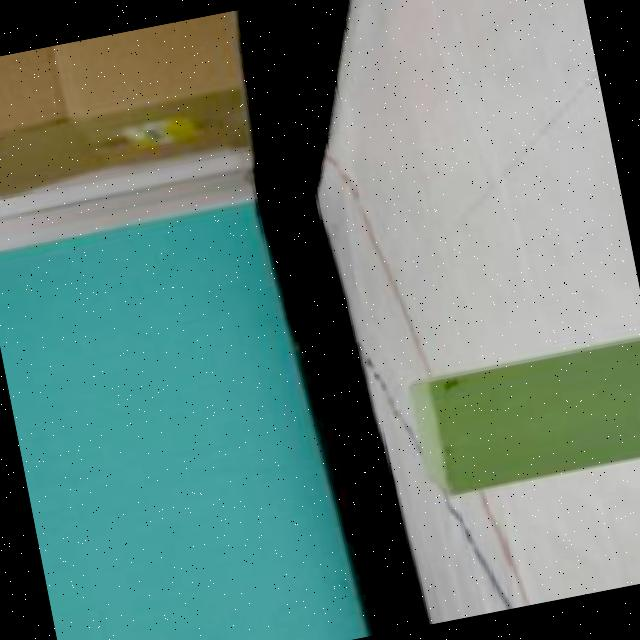greenbox: (402, 330, 640, 501)
